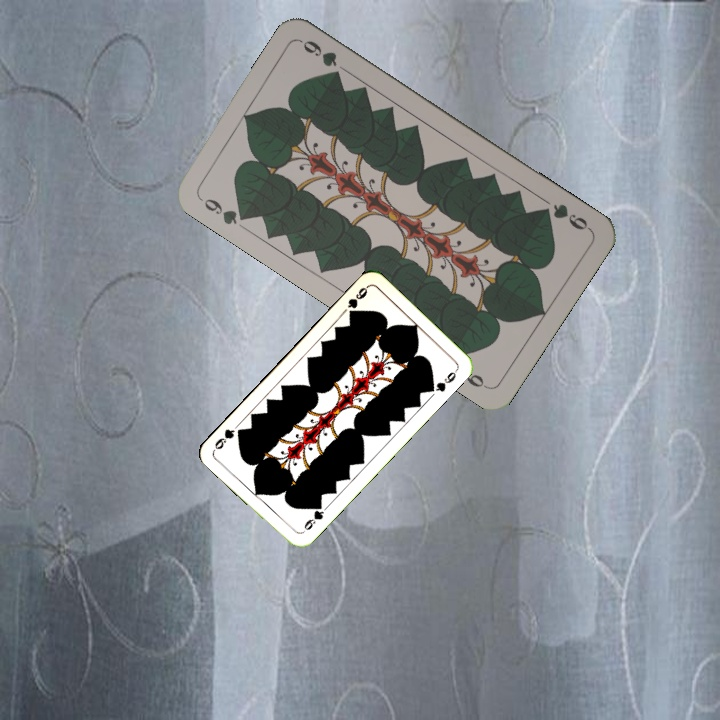G9: (195, 193, 253, 228), (535, 199, 593, 233), (298, 499, 330, 535), (343, 282, 371, 319)
